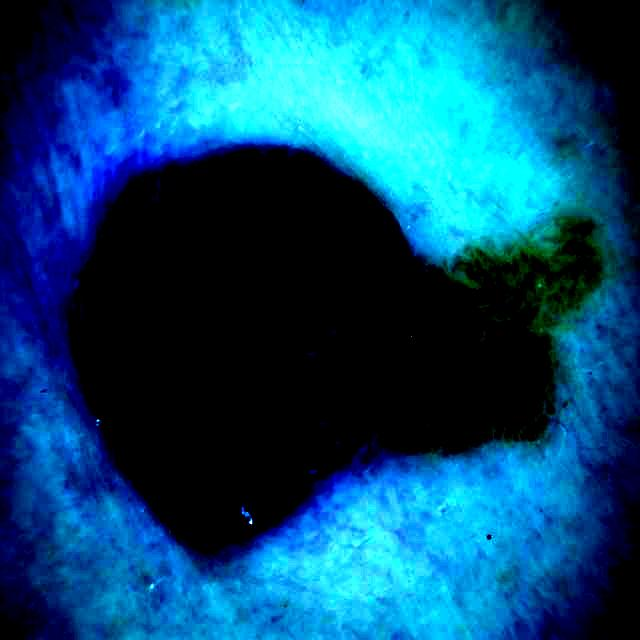BKL: (78, 148, 599, 538)
